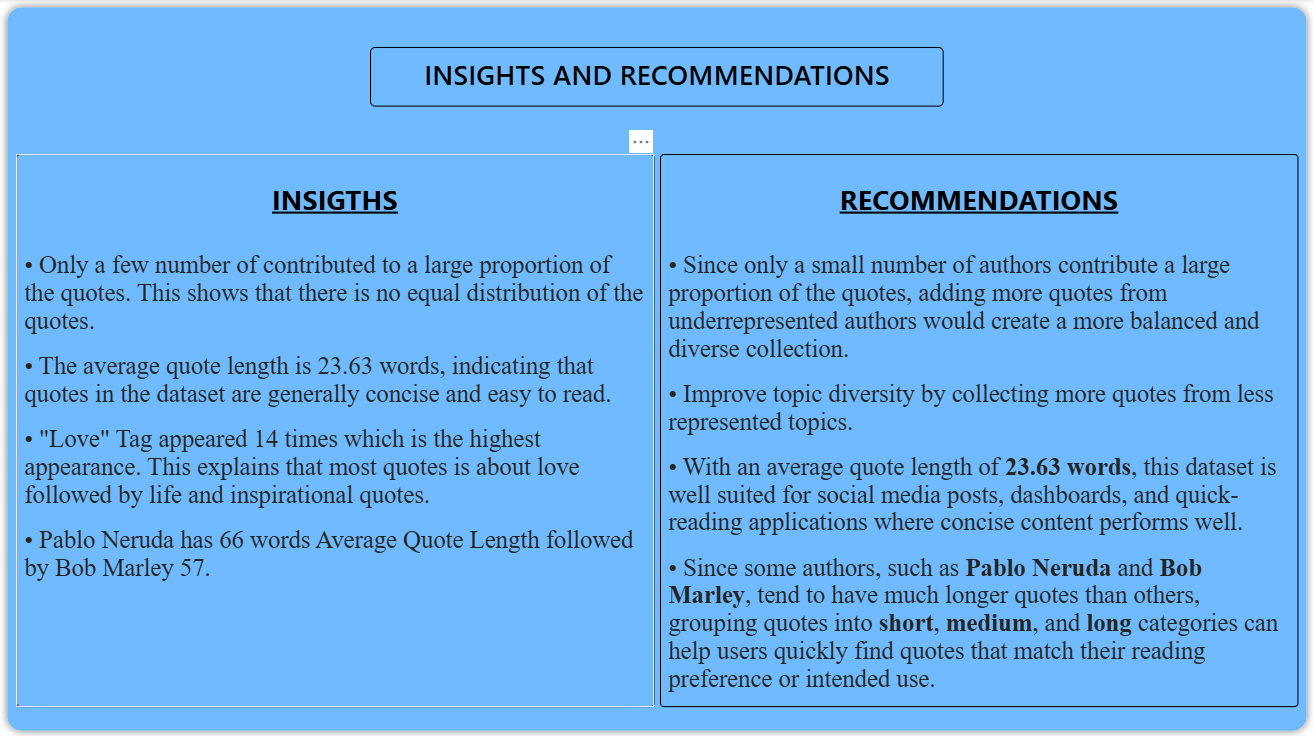

The page's visual inventory and layout, read from the dashboard file:
{"tool":"powerbi","page":{"name":"Insights and Recommendations","canvas":[1280,720],"ordinal":1},"visuals":[{"type":"shape","box":[0,0,1280,719.8],"z":0},{"type":"textbox","box":[360.9,46.7,558.3,58.4],"z":1000},{"type":"textbox","box":[16.5,150.8,620.5,537.9],"z":2000},{"type":"textbox","box":[642.9,150.8,620.5,537.9],"z":3000}]}

Visuals, with their boxes in screenshot pixels (x1, y1, x2, y2), scaled from the page's 1280x720 canvas onto the 1313x736 screenshot:
shape: {"x1": 0, "y1": 0, "x2": 1312, "y2": 735}
textbox: {"x1": 370, "y1": 48, "x2": 943, "y2": 107}
textbox: {"x1": 17, "y1": 154, "x2": 653, "y2": 704}
textbox: {"x1": 659, "y1": 154, "x2": 1296, "y2": 704}
